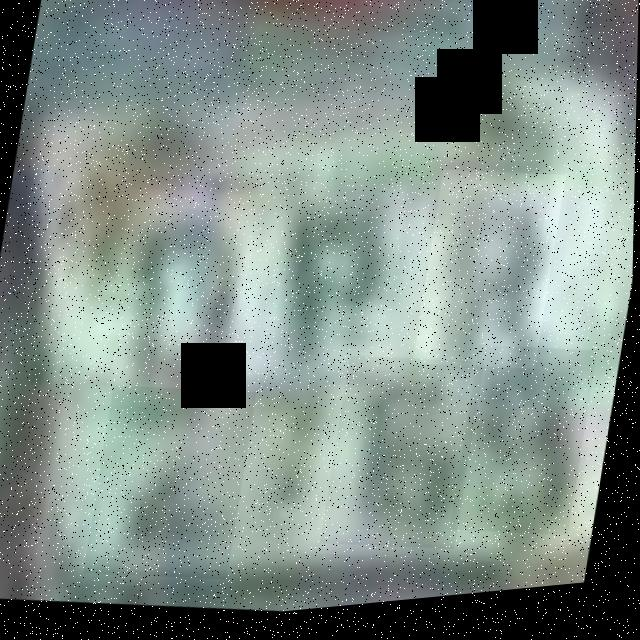4: (85, 377, 259, 595)
5: (452, 346, 599, 556)
6: (322, 353, 487, 569)
O: (97, 181, 262, 425)
P: (414, 170, 567, 389), (263, 172, 416, 383)
